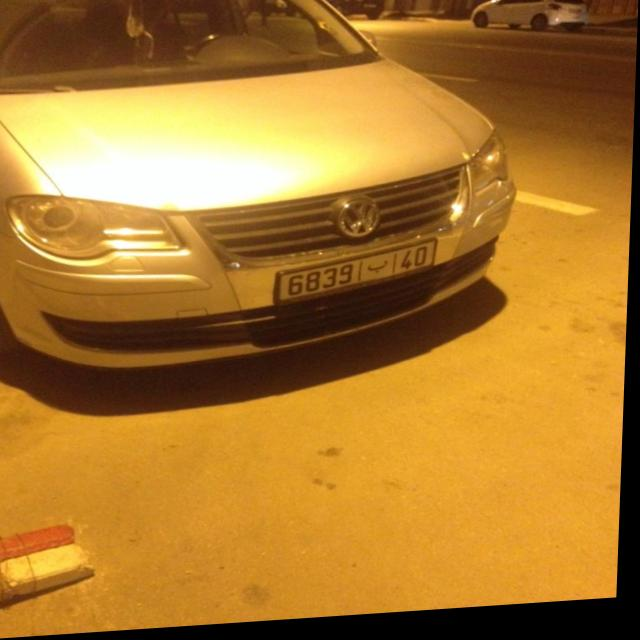License-Plate: (279, 247, 437, 306)
